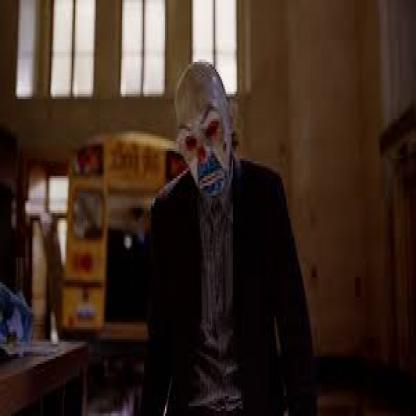criminal: (134, 62, 317, 416)
